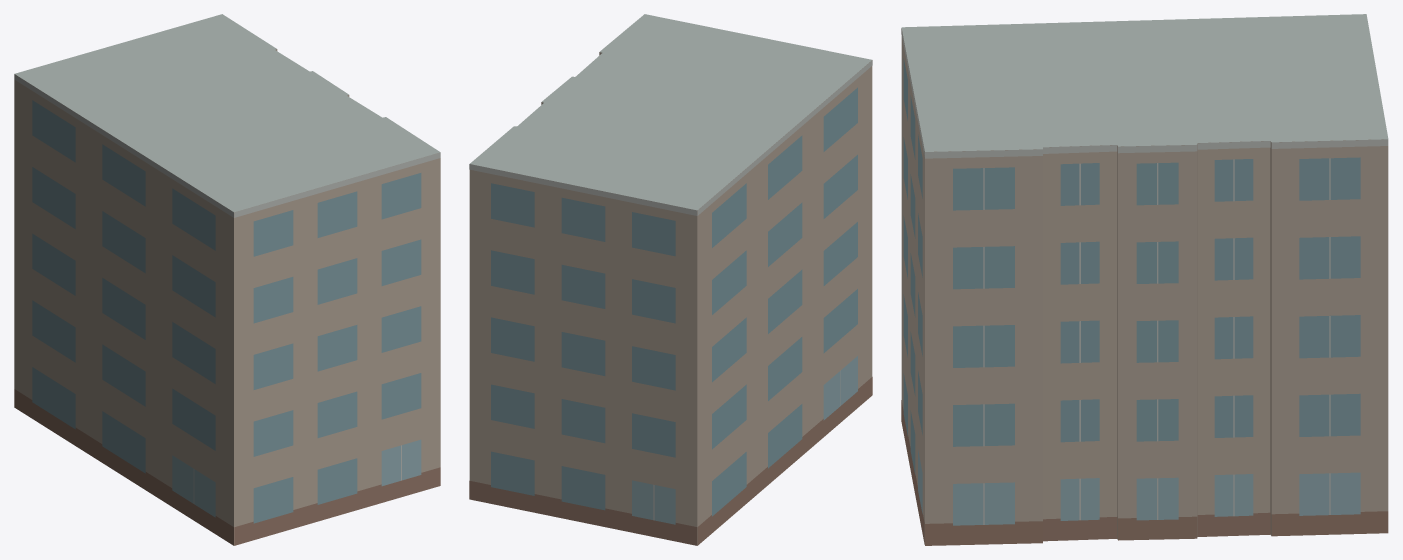
File: survey-upis-32739112.glb
The picture shows the model from 3 angles, left to right: view 1: azimuth 30°, elevation 25°; view 2: azimuth 150°, elevation 25°; view 3: azimuth 270°, elevation 25°; orthographic projection. The views are drawn at different scales.
Parts seen in each view (by area): view 1: survey-upis-32739112.tmp; view 2: survey-upis-32739112.tmp; view 3: survey-upis-32739112.tmp.
Part boxes in pixels (x1,y1,x2,y2): survey-upis-32739112.tmp: [14, 14, 440, 545]; survey-upis-32739112.tmp: [469, 14, 872, 545]; survey-upis-32739112.tmp: [901, 14, 1388, 545].
Size of the model in its own units: 10.83 by 14.4 by 16.15.
